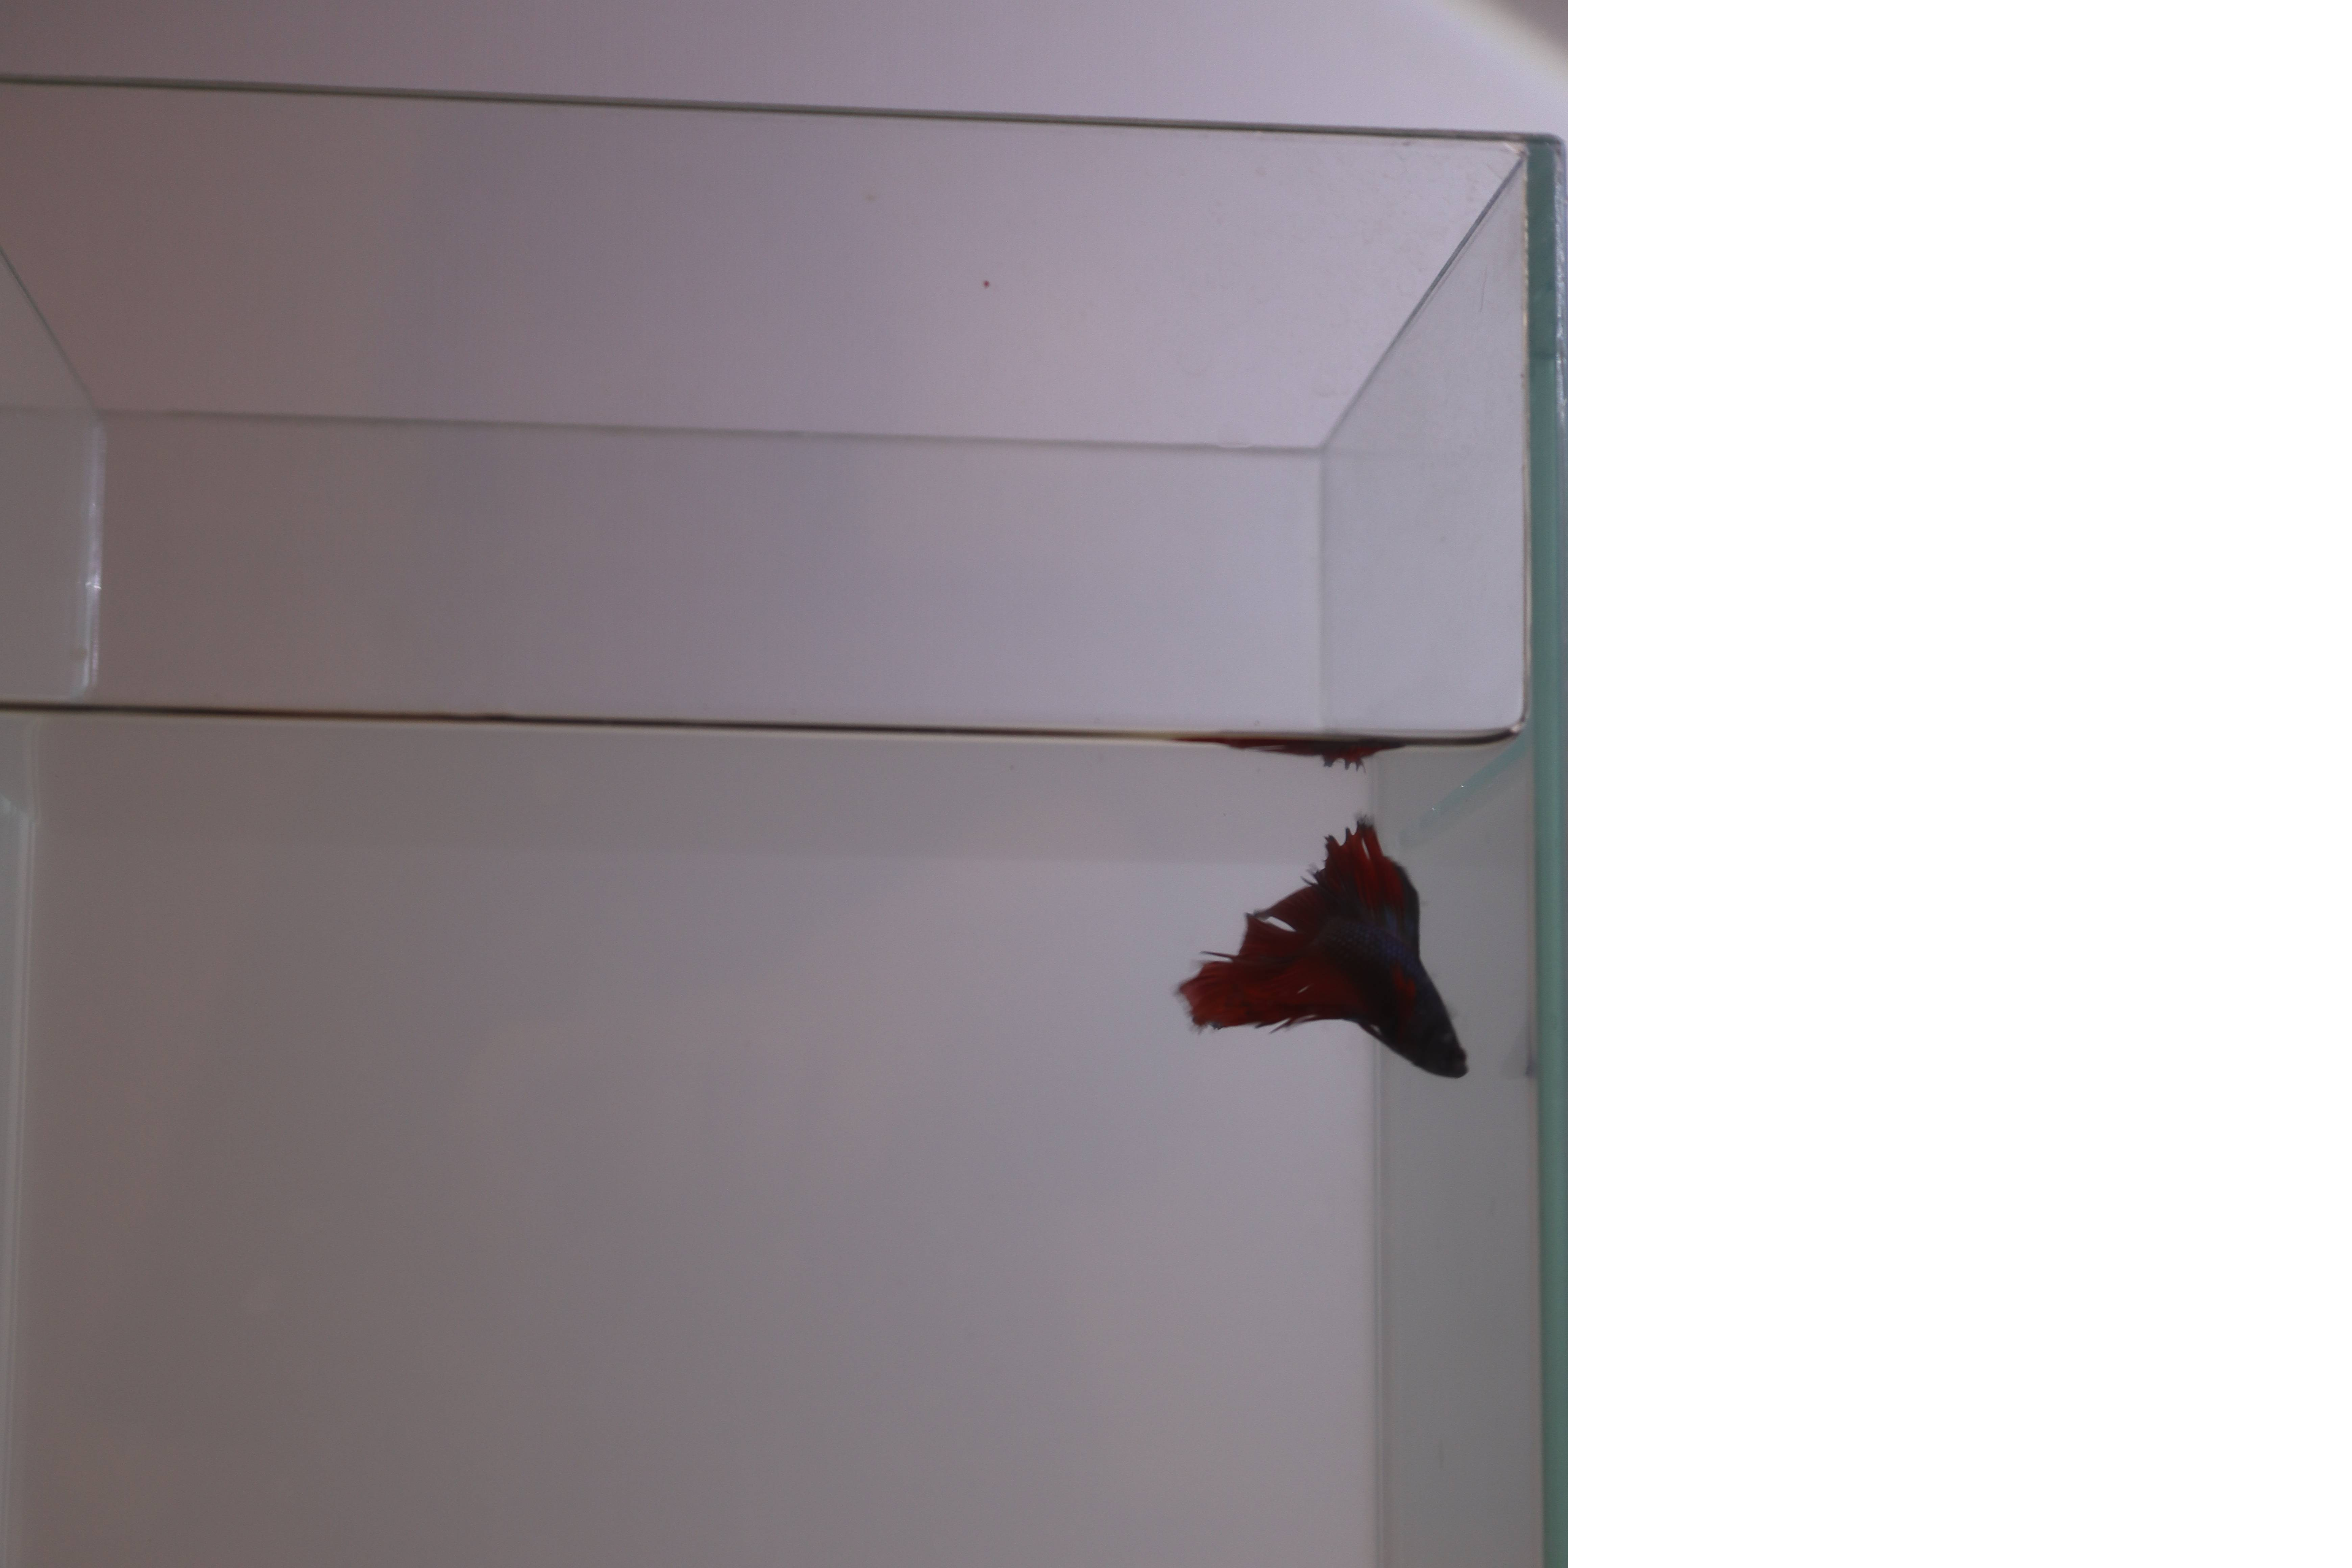fish: (1158, 812, 1493, 1095)
